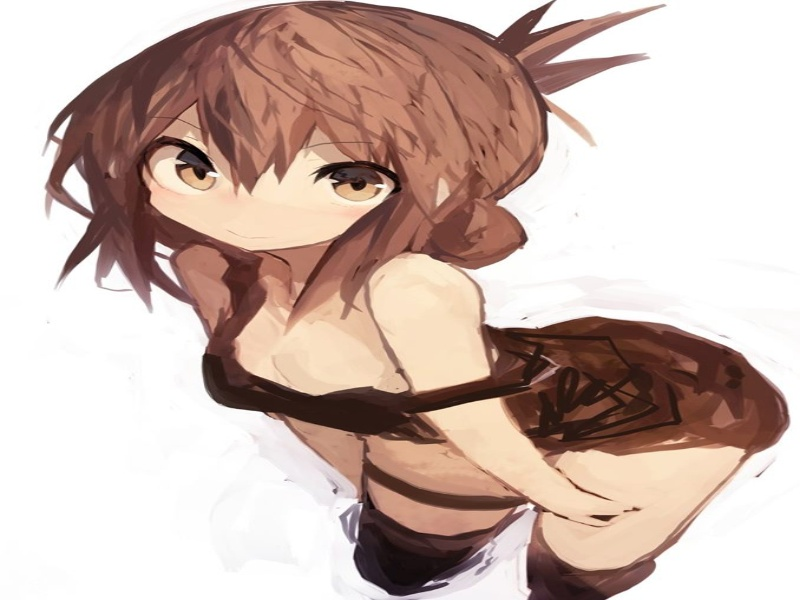dress: (173, 282, 788, 469)
person: (50, 8, 594, 294)
